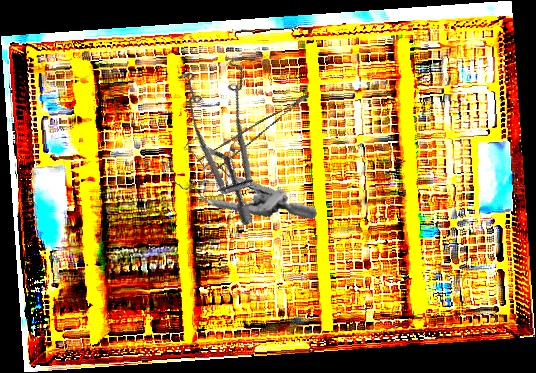Speculum: (141, 37, 327, 228), (158, 120, 318, 243)
Tissue Forceps: (193, 94, 320, 177)
